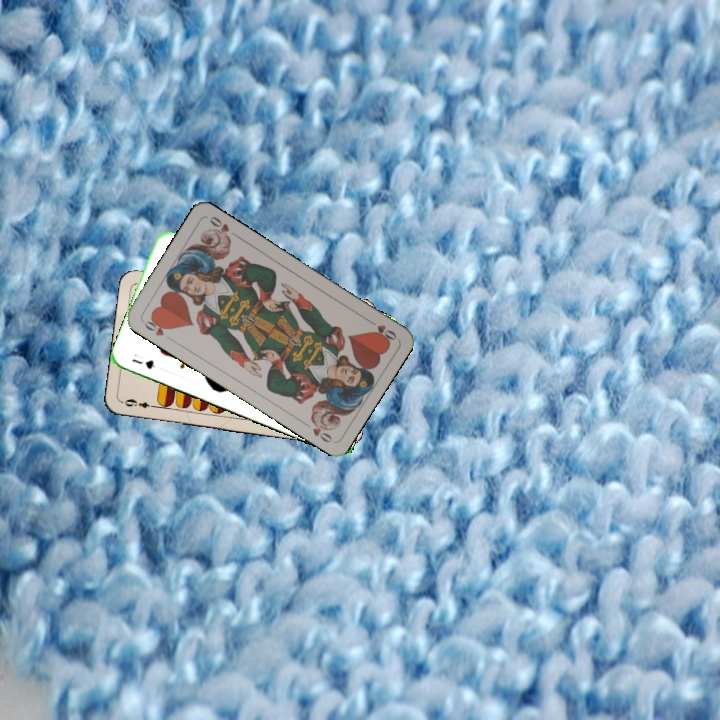E9: (119, 395, 159, 411)
GU: (128, 355, 158, 372)
HO: (363, 315, 399, 344), (140, 313, 172, 339)
